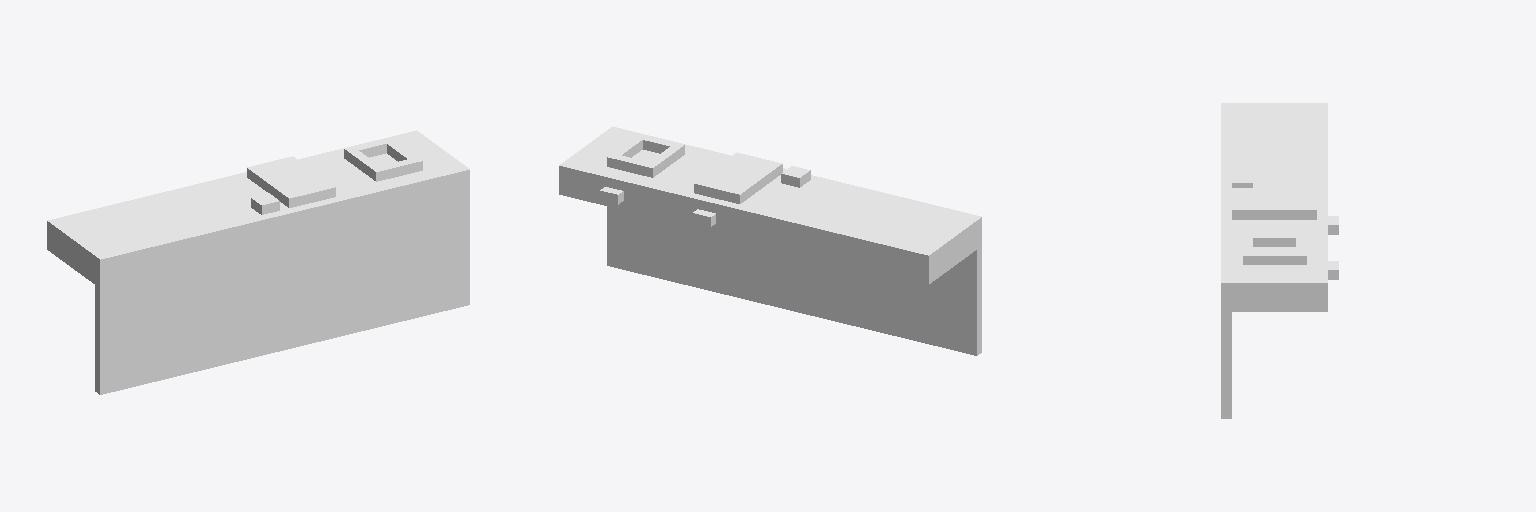
Rendered from ticket.obj.
The picture shows the model from 3 angles: view 1: azimuth 30°, elevation 25°; view 2: azimuth 150°, elevation 25°; view 3: azimuth 270°, elevation 25°; orthographic projection.
Size of the model in its own units: 2 by 0.75 by 0.55.